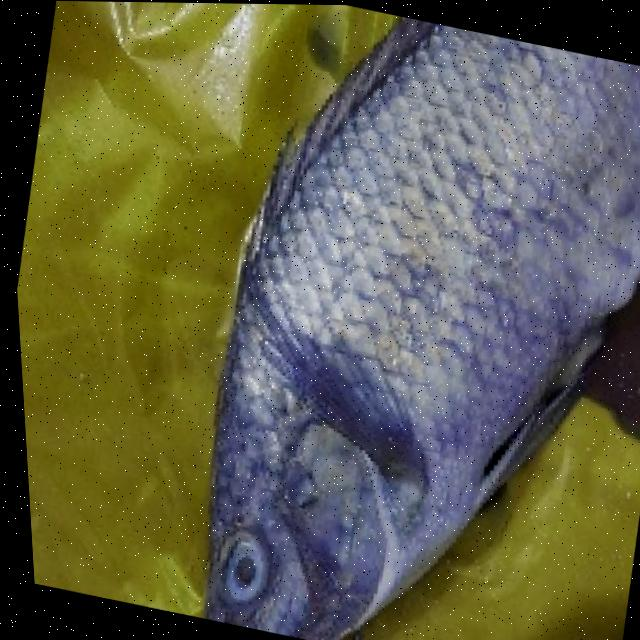Non-Fresh: (106, 104, 640, 640), (189, 517, 290, 628)
